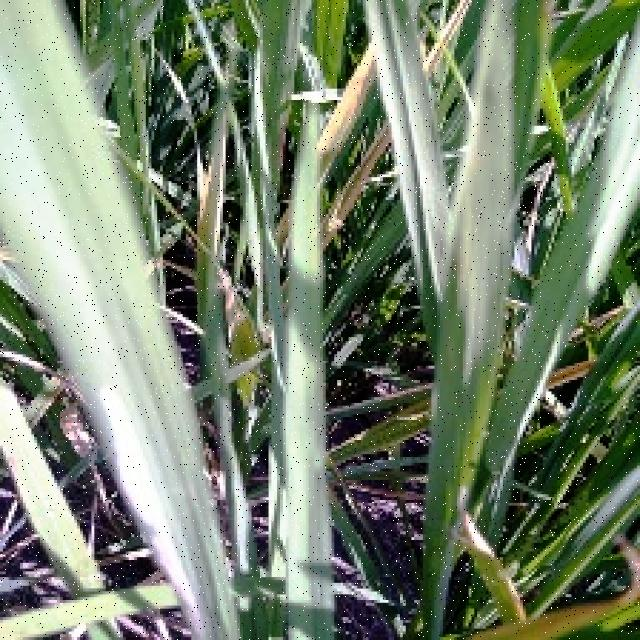health: (463, 337, 637, 640)
